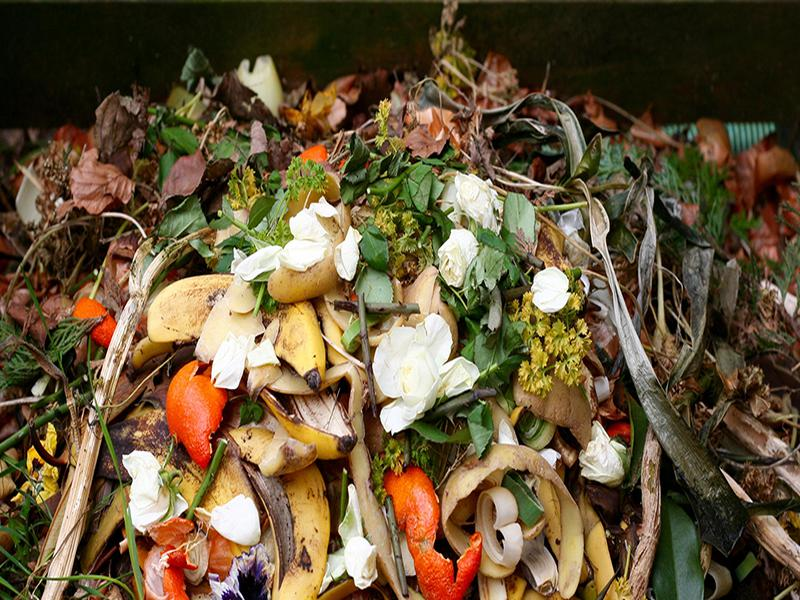vegetation: (1, 38, 800, 600)
